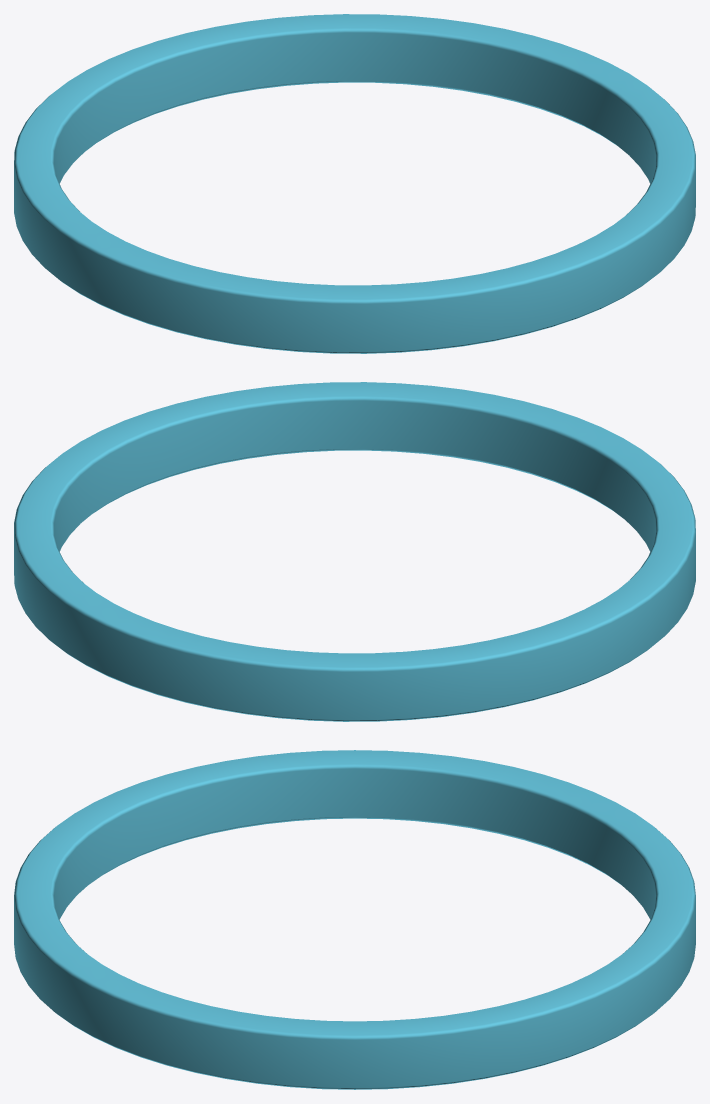
The picture shows the model from 3 angles, top to bottom: view 1: azimuth 30°, elevation 25°; view 2: azimuth 150°, elevation 25°; view 3: azimuth 270°, elevation 25°; orthographic projection.
Visible parts, largest first — view 1: seal_body; view 2: seal_body; view 3: seal_body.
Part boxes in pixels (<box>): seal_body: <box>14,14,695,353</box>; seal_body: <box>14,382,695,721</box>; seal_body: <box>14,750,695,1089</box>.
Size of the model in its own units: 0.068 by 0.006 by 0.068.
